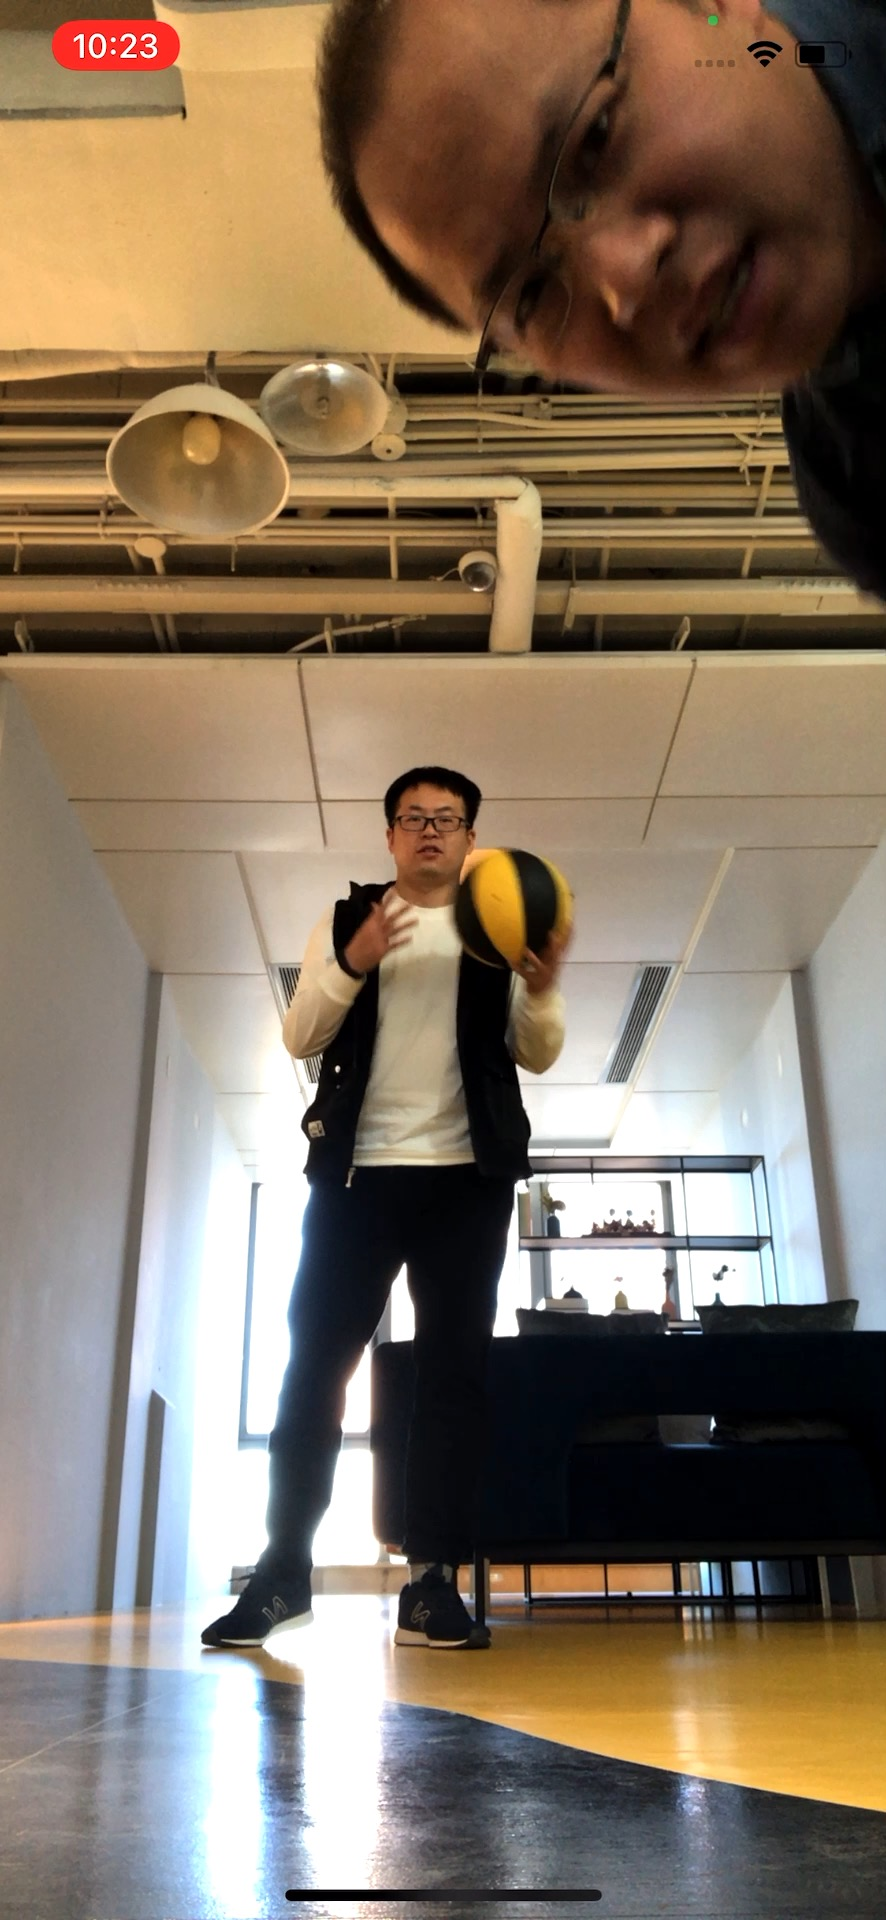ball: (456, 849, 578, 973)
